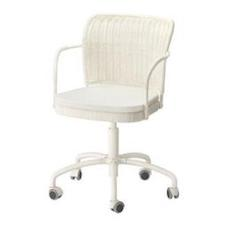chair: (14, 5, 196, 217)
